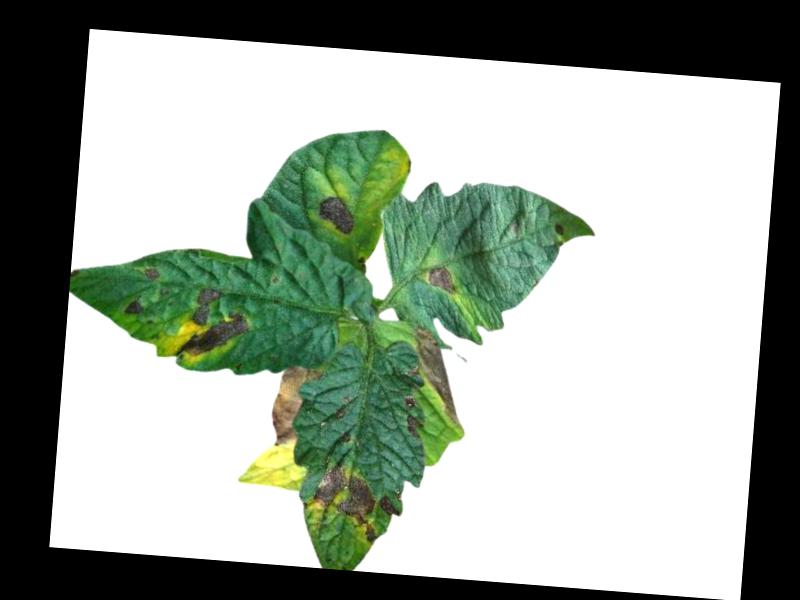Early_blight: (410, 325, 472, 427), (174, 284, 253, 362), (310, 463, 384, 545), (268, 362, 324, 449), (317, 194, 357, 237), (424, 260, 461, 294), (402, 395, 423, 439), (378, 494, 404, 520), (123, 298, 148, 316), (144, 264, 161, 280), (553, 219, 565, 236)
